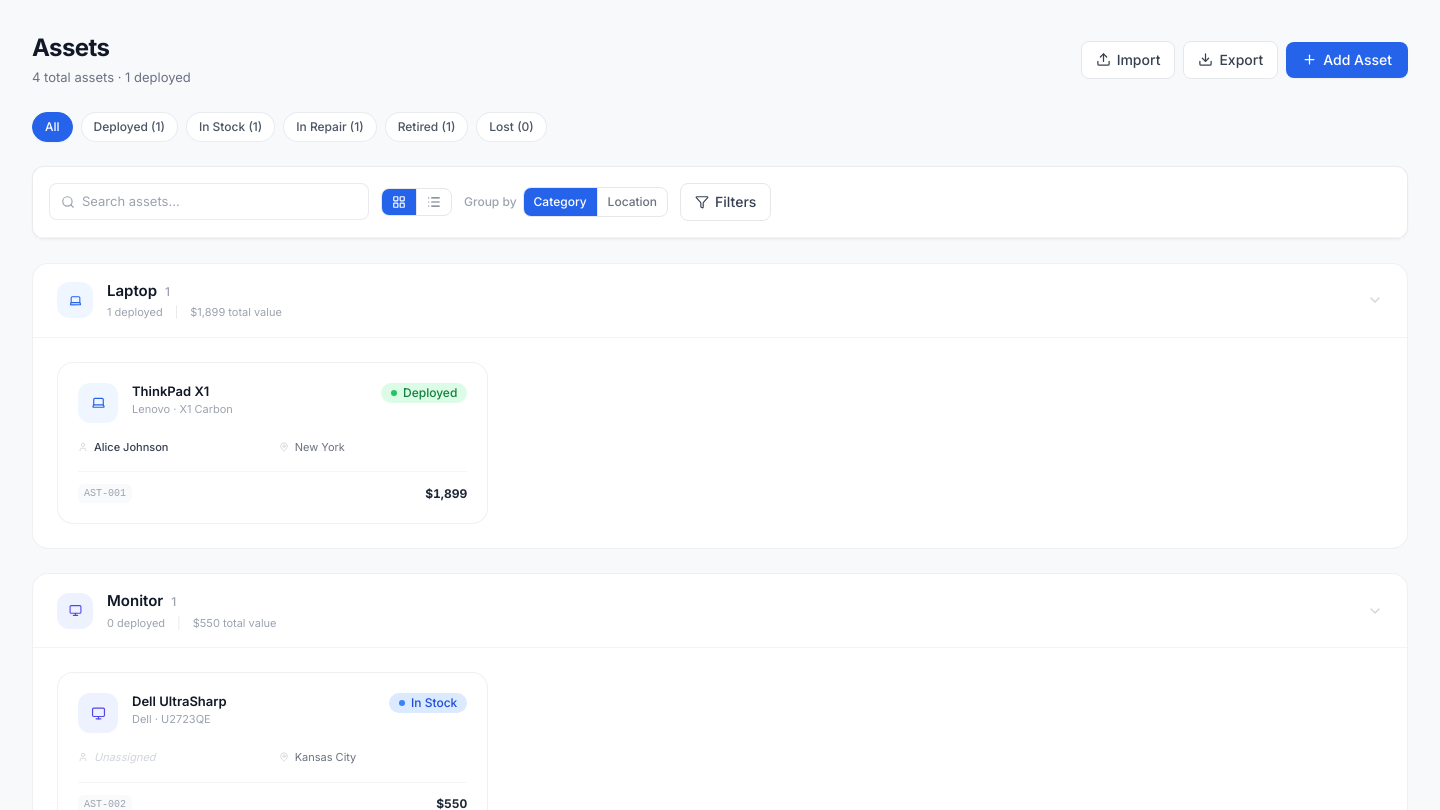
Test: AssetList page › search filters assets › filters assets by name
In the field with placeholder "Search assets...": (209, 202) left=49, top=183, right=369, bottom=220, type "ThinkPad"
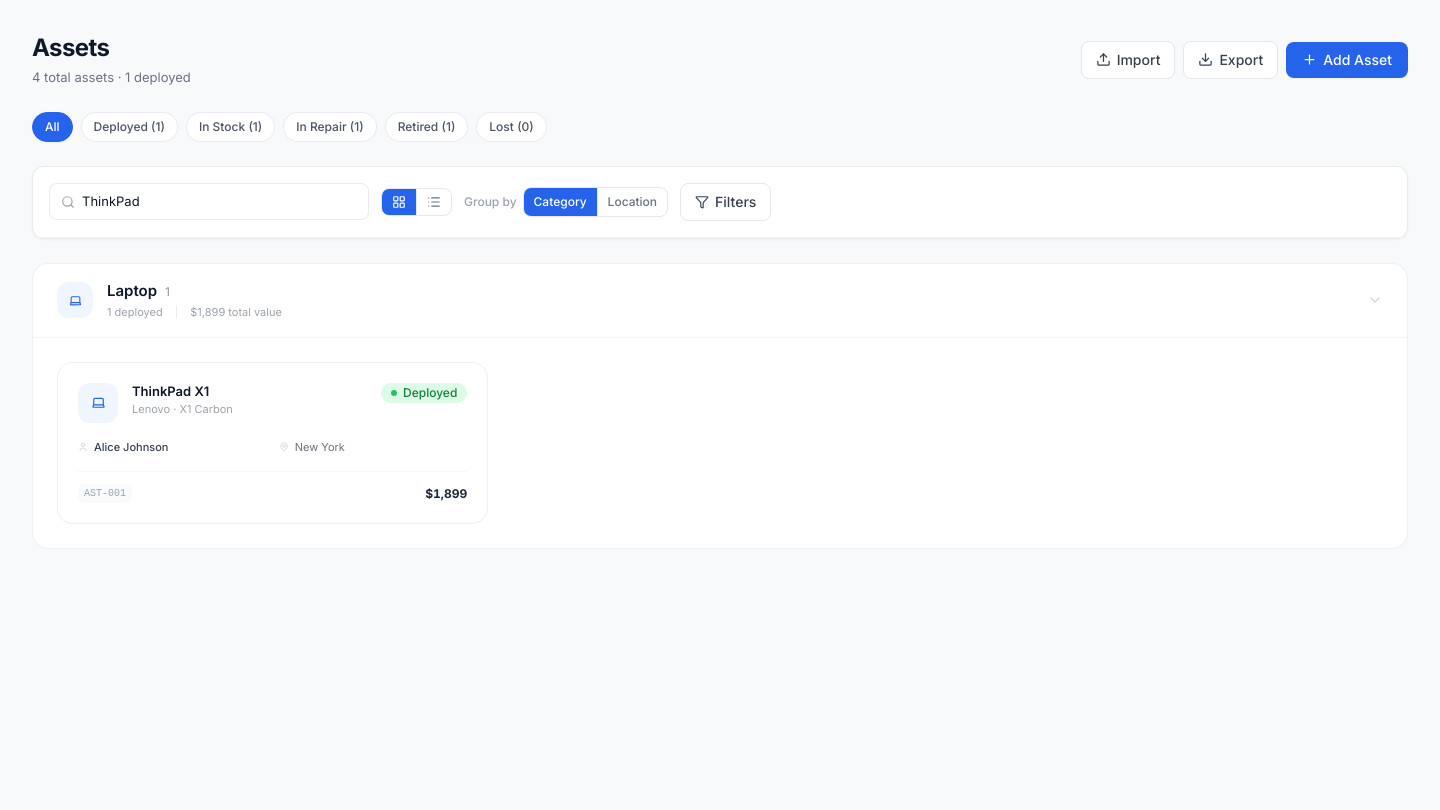
Expected: the text "ThinkPad X1" is shown, left=132, top=382, right=209, bottom=398
Now the text "Dell UltraSharp" is gone
